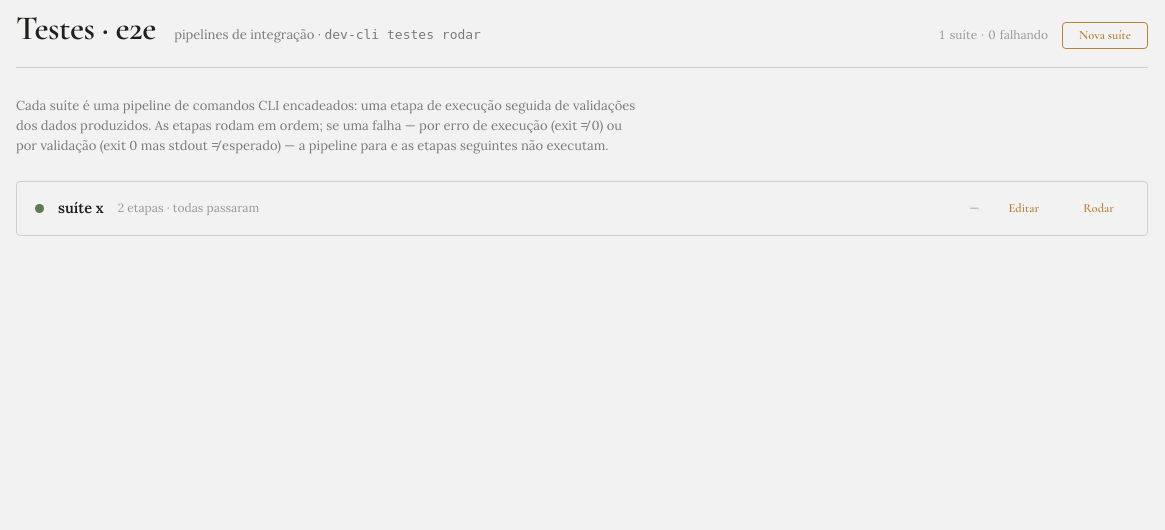
Testes › expandir a suíte busca e mostra o histórico vazio
Click the text "suíte x" at (81, 208), box 58,197 -> 104,219
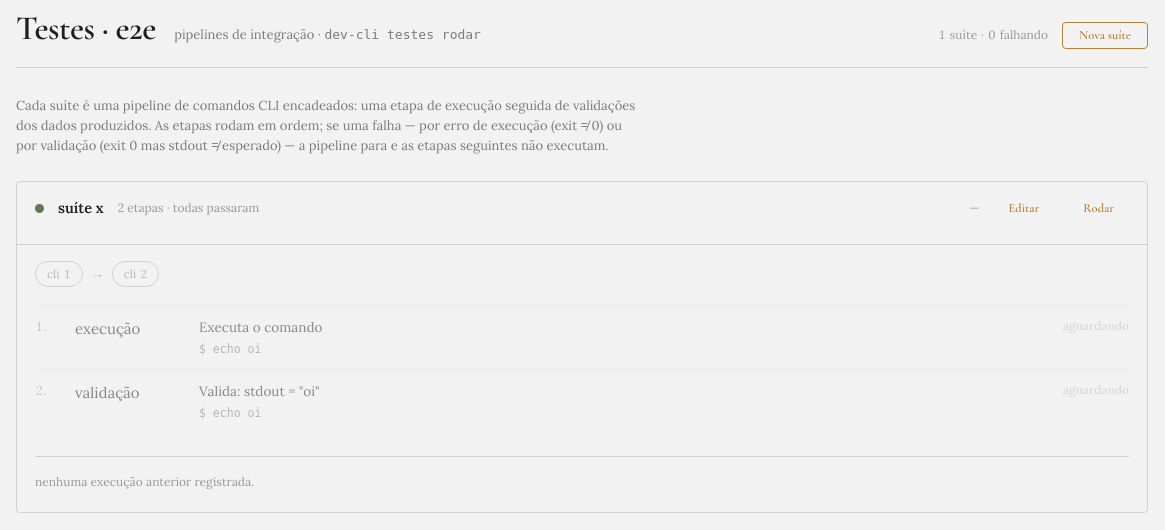
expect the text "nenhuma execução anterior registrada." is shown: met, box 35,456 -> 1129,492
